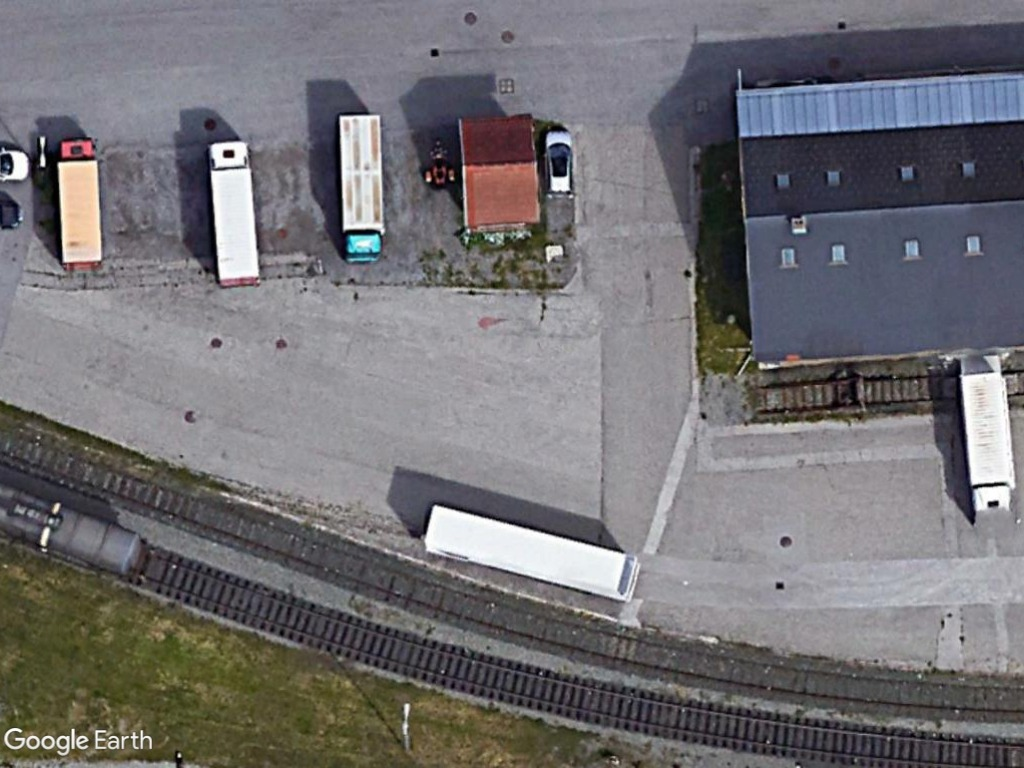car: (542, 127, 578, 203)
truck: (950, 368, 1019, 517), (204, 135, 266, 291), (334, 112, 391, 272), (56, 133, 106, 274)
